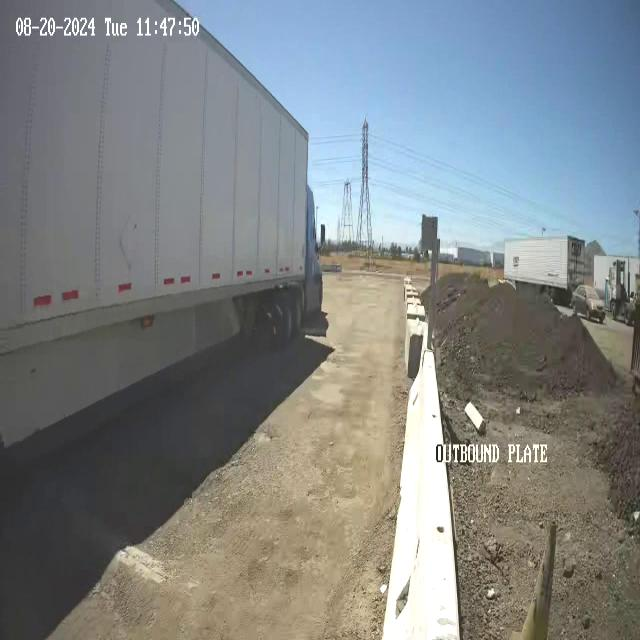CONTAINER: (7, 5, 311, 339)
